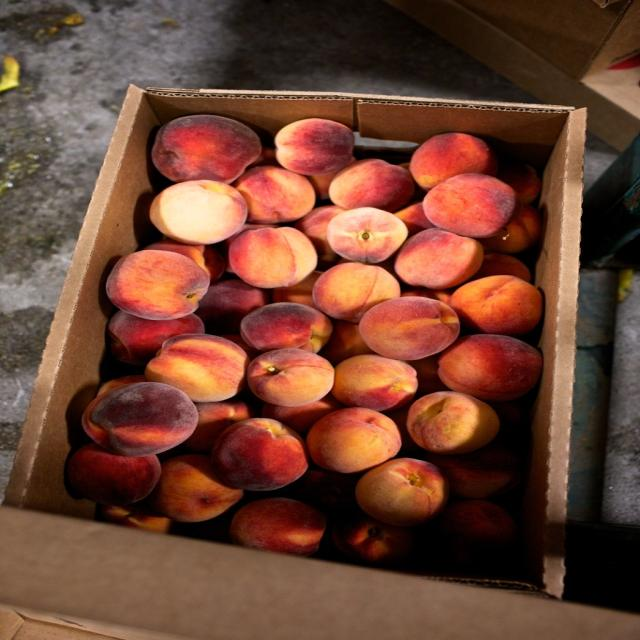Peach: (66, 113, 546, 569)
